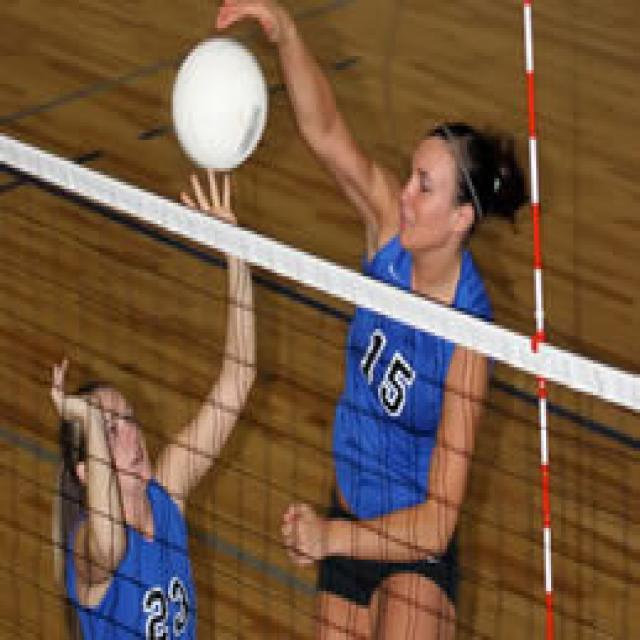volleyball: (170, 37, 268, 173)
